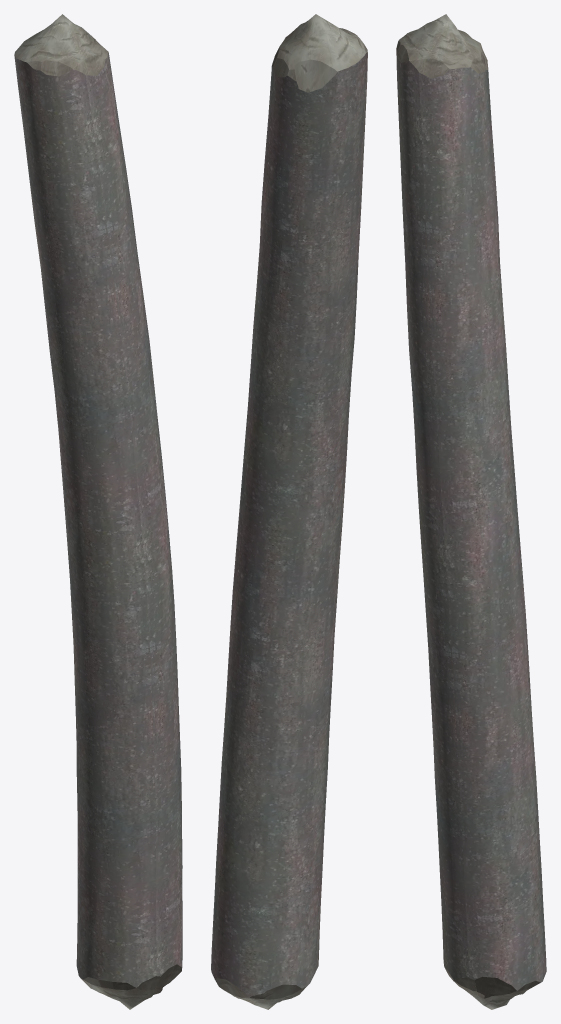
3 renders of one model, left to right at view 1: azimuth 30°, elevation 25°; view 2: azimuth 150°, elevation 25°; view 3: azimuth 330°, elevation 25°, orthographic. The views are drawn at different scales.
Visible parts, largest first — view 1: SM_GF_Ash_Tree_01_half_top_LOD0; view 2: SM_GF_Ash_Tree_01_half_top_LOD0; view 3: SM_GF_Ash_Tree_01_half_top_LOD0.
Part boxes in pixels (x1,y1,x2,y2): SM_GF_Ash_Tree_01_half_top_LOD0: (14, 14, 182, 1009); SM_GF_Ash_Tree_01_half_top_LOD0: (211, 14, 367, 1009); SM_GF_Ash_Tree_01_half_top_LOD0: (396, 14, 546, 1009).
Size of the model in its own units: 0.7405 by 4.8 by 0.5413.
Materials: 1 (1 with a texture image).
